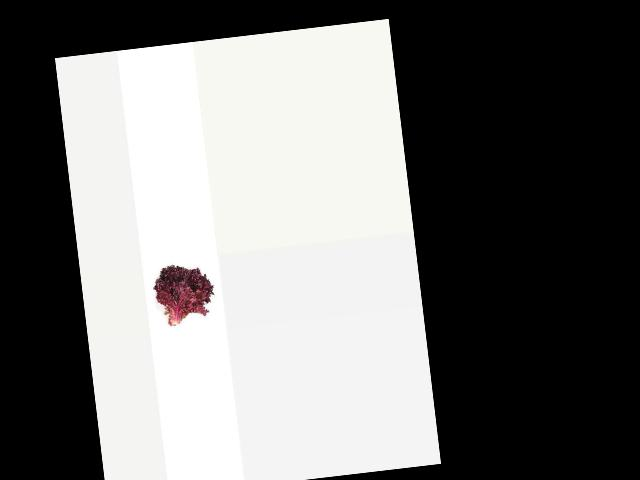lettuce: (153, 257, 219, 333)
